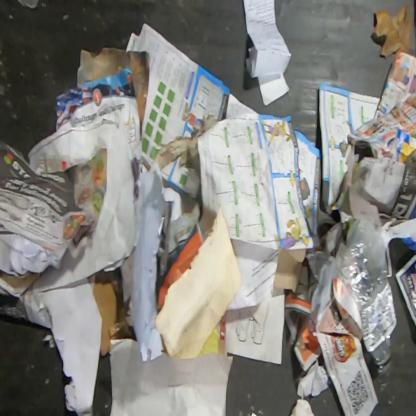cardboard: (92, 282, 127, 357)
rigid_plastic: (341, 218, 398, 377)
